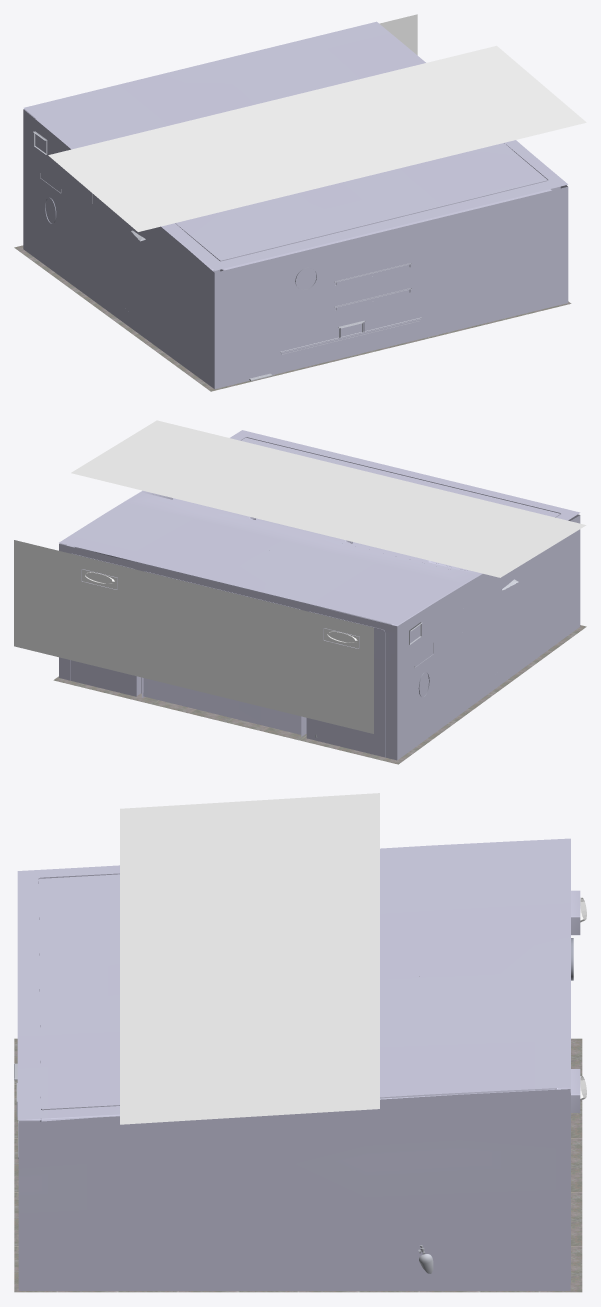
The model's file is Garage.fbx.
3 views of the same model, one above another, from view 1: azimuth 30°, elevation 25°; view 2: azimuth 150°, elevation 25°; view 3: azimuth 270°, elevation 25° (orthographic). The views are drawn at different scales.
Parts seen in each view (by area): view 1: Building1, BackgroundLight_01, Floor, Junk, BackgroundLight_02; view 2: Building1, BackgroundLight_02, BackgroundLight_01, Floor; view 3: Building1, BackgroundLight_01, Floor.
Boxes of the visible parts, box(x1,y1,x2,y2) form: Building1: box(23, 21, 568, 389); BackgroundLight_01: box(48, 45, 586, 231); Floor: box(14, 245, 571, 391); Junk: box(33, 131, 421, 380); BackgroundLight_02: box(379, 14, 417, 55); Building1: box(59, 430, 580, 760); BackgroundLight_02: box(14, 540, 373, 733); BackgroundLight_01: box(71, 420, 586, 577); Floor: box(53, 625, 586, 764); Building1: box(17, 838, 580, 1290); BackgroundLight_01: box(120, 793, 379, 1124); Floor: box(14, 1038, 582, 1292).
Bounding box in the file's own units: 28.68 × 9.44 × 21.98.
9 materials, 5 textured.
